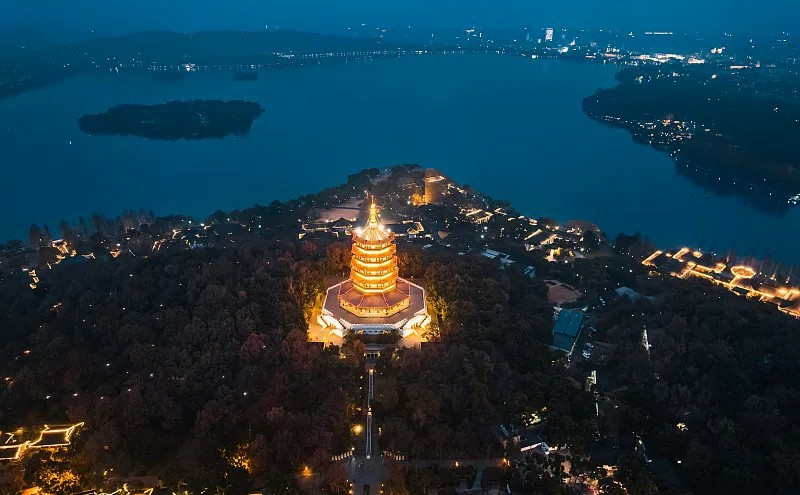Leifeng: (339, 194, 409, 315)
